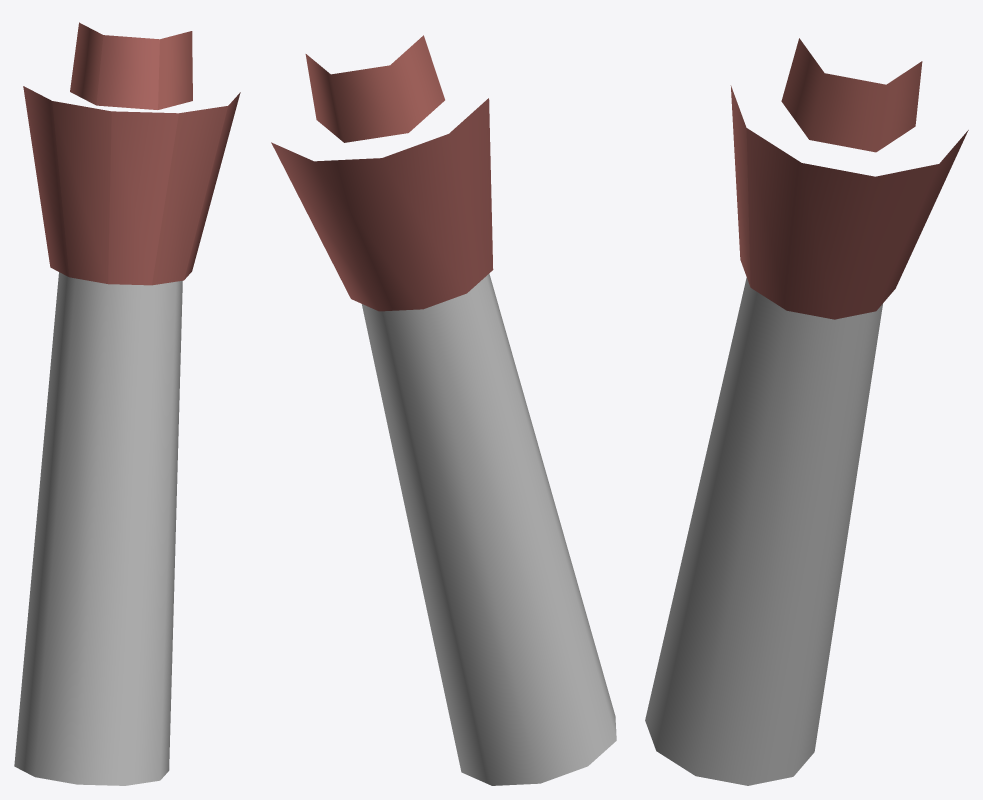
The model's file is MarkerB.glb.
3 views of the same model, side by side, from view 1: azimuth 30°, elevation 25°; view 2: azimuth 150°, elevation 25°; view 3: azimuth 270°, elevation 25° (orthographic). The views are drawn at different scales.
Parts seen in each view (by area): view 1: MarkerB; view 2: MarkerB; view 3: MarkerB.
Part boxes in pixels (x1,y1,x2,y2): MarkerB: [14, 22, 240, 785]; MarkerB: [271, 35, 616, 785]; MarkerB: [645, 38, 968, 785].
Size of the model in its own units: 0.0893 by 0.238 by 0.0905.
